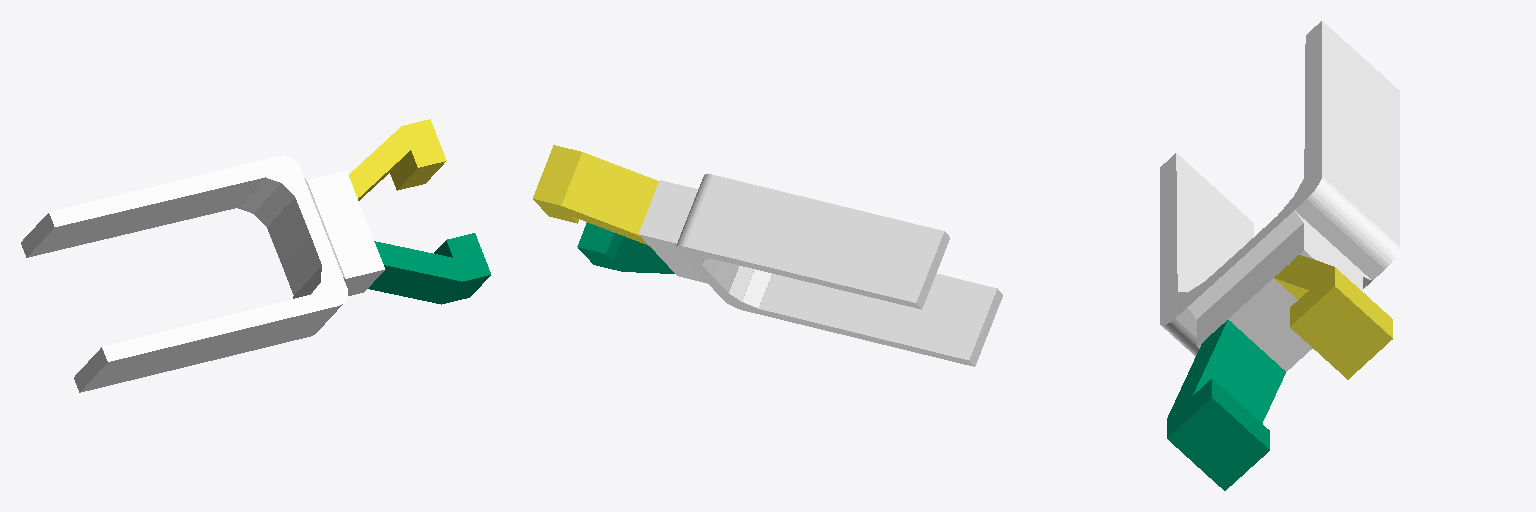
robot.urdf — panda:
<?xml version="1.0" ?>

<!-- =================================================================================== -->
<!-- |    This document was autogenerated by xacro from panda_arm.urdf.xacro           | -->
<!-- |    EDITING THIS FILE BY HAND IS NOT RECOMMENDED                                 | -->
<!-- =================================================================================== -->
<robot name="panda" xmlns:xacro="http://www.ros.org/wiki/xacro">
  <link name="panda_link0">
    <visual>
      <geometry>
        <mesh filename="meshes/visual/link0.dae"/>
      </geometry>
    </visual>
    <collision>
      <geometry>
        <mesh filename="meshes/collision/link0.stl"/>
      </geometry>
    </collision>
    <inertial>
        <mass value="3.06"/>
        <inertia ixx="0.3" ixy="0.0" ixz="0.0" iyy="0.3" iyz="0.0" izz="0.3"/>
      </inertial>
  </link>
  <link name="panda_link1">
    <visual>
      <geometry>
        <mesh filename="meshes/visual/link1.dae"/>
      </geometry>
    </visual>
    <collision>
      <geometry>
        <mesh filename="meshes/collision/link1.stl"/>
      </geometry>
    </collision>
    <inertial>
        <mass value="2.34"/>
        <inertia ixx="0.3" ixy="0.0" ixz="0.0" iyy="0.3" iyz="0.0" izz="0.3"/>
      </inertial>
  </link>
  <joint name="panda_joint1" type="revolute">
    <safety_controller k_position="100.0" k_velocity="40.0" soft_lower_limit="-2.8973" soft_upper_limit="2.8973"/>
    <origin rpy="0 0 0" xyz="0 0 0.333"/>
    <parent link="panda_link0"/>
    <child link="panda_link1"/>
    <axis xyz="0 0 1"/>
    <dynamics damping="1.0" />
    <limit effort="87" lower="-2.8973" upper="2.8973" velocity="2.1750"/>
  </joint>
  <link name="panda_link2">
    <visual>
      <geometry>
        <mesh filename="meshes/visual/link2.dae"/>
      </geometry>
    </visual>
    <collision>
      <geometry>
        <mesh filename="meshes/collision/link2.stl"/>
      </geometry>
    </collision>
    <inertial>
        <mass value="2.36"/>
        <inertia ixx="0.3" ixy="0.0" ixz="0.0" iyy="0.3" iyz="0.0" izz="0.3"/>
      </inertial>
  </link>
  <joint name="panda_joint2" type="revolute">
    <safety_controller k_position="100.0" k_velocity="40.0" soft_lower_limit="-1.7628" soft_upper_limit="1.7628"/>
    <origin rpy="-1.57079632679 0 0" xyz="0 0 0"/>
    <!-- <origin rpy="-1.57079632679 1.5 0" xyz="0 0 0"/> -->
    <parent link="panda_link1"/>
    <child link="panda_link2"/>
    <axis xyz="0 0 1"/>
    <dynamics damping="1.0" />
    <limit effort="87" lower="-1.7628" upper="1.7628" velocity="2.1750"/>
  </joint>
  <link name="panda_link3">
    <visual>
      <geometry>
        <mesh filename="meshes/visual/link3.dae"/>
      </geometry>
    </visual>
    <collision>
      <geometry>
        <mesh filename="meshes/collision/link3.stl"/>
      </geometry>
    </collision>
    <inertial>
        <mass value="2.38"/>
        <inertia ixx="0.3" ixy="0.0" ixz="0.0" iyy="0.3" iyz="0.0" izz="0.3"/>
      </inertial>

  </link>
  <joint name="panda_joint3" type="revolute">
    <safety_controller k_position="100.0" k_velocity="40.0" soft_lower_limit="-2.8973" soft_upper_limit="2.8973"/>
    <origin rpy="1.57079632679 0 0" xyz="0 -0.316 0"/>
    <parent link="panda_link2"/>
    <child link="panda_link3"/>
    <axis xyz="0 0 1"/>
    <dynamics damping="1.0" />
    <limit effort="87" lower="-2.8973" upper="2.8973" velocity="2.1750"/>
  </joint>
  <link name="panda_link4">
    <visual>
      <geometry>
        <mesh filename="meshes/visual/link4.dae"/>
      </geometry>
    </visual>
    <collision>
      <geometry>
        <mesh filename="meshes/collision/link4.stl"/>
      </geometry>
    </collision>
    <inertial>
      <mass value="2.43"/>
      <inertia ixx="0.3" ixy="0.0" ixz="0.0" iyy="0.3" iyz="0.0" izz="0.3"/>
      </inertial>
  </link>
  <joint name="panda_joint4" type="revolute">
    <safety_controller k_position="100.0" k_velocity="40.0" soft_lower_limit="-3.0718" soft_upper_limit="-0.0698"/>
    <origin rpy="1.57079632679 0 0" xyz="0.0825 0 0"/>
    <parent link="panda_link3"/>
    <child link="panda_link4"/>
    <axis xyz="0 0 1"/>
    <dynamics damping="1.0" />
    <limit effort="87" lower="-3.0718" upper="-0.0698" velocity="2.1750"/>
  </joint>
  <link name="panda_link5">
    <visual>
      <geometry>
        <mesh filename="meshes/visual/link5.dae"/>
      </geometry>
    </visual>
    <collision>
      <geometry>
        <mesh filename="meshes/collision/link5.stl"/>
      </geometry>
    </collision>
    <inertial>
        <mass value="3.5"/>
        <inertia ixx="0.3" ixy="0.0" ixz="0.0" iyy="0.3" iyz="0.0" izz="0.3"/>
      </inertial>
  </link>

  <joint name="panda_joint5" type="revolute">
    <safety_controller k_position="100.0" k_velocity="40.0" soft_lower_limit="-2.8973" soft_upper_limit="2.8973"/>
    <origin rpy="-1.57079632679 0 0" xyz="-0.0825 0.384 0"/>
    <parent link="panda_link4"/>
    <child link="panda_link5"/>
    <axis xyz="0 0 1"/>
    <dynamics damping="1.0" />
    <limit effort="12" lower="-2.8973" upper="2.8973" velocity="2.6100"/>
  </joint>
  <link name="panda_link6">
    <visual>
      <geometry>
        <mesh filename="meshes/visual/link6.dae"/>
      </geometry>
    </visual>
    <collision>
      <geometry>
        <mesh filename="meshes/collision/link6.stl"/>
      </geometry>
    </collision>
     <inertial>
        <mass value="1.47"/>
        <inertia ixx="0.3" ixy="0.0" ixz="0.0" iyy="0.3" iyz="0.0" izz="0.3"/>
      </inertial>
  </link>
  <joint name="panda_joint6" type="revolute">
    <safety_controller k_position="100.0" k_velocity="40.0" soft_lower_limit="-0.0175" soft_upper_limit="3.7525"/>
    <origin rpy="1.57079632679 0 0" xyz="0 0 0"/>
    <parent link="panda_link5"/>
    <child link="panda_link6"/>
    <axis xyz="0 0 1"/>
    <dynamics damping="1.0" />
    <limit effort="12" lower="-0.0175" upper="3.7525" velocity="2.6100"/>
  </joint>
  <link name="panda_link7">
    <visual>
      <geometry>
        <mesh filename="meshes/visual/link7.dae"/>
      </geometry>
    </visual>
    <collision>
      <geometry>
        <mesh filename="meshes/collision/link7.stl"/>
      </geometry>
    </collision>
    <inertial>
        <mass value="0.45"/>
        <inertia ixx="0.3" ixy="0.0" ixz="0.0" iyy="0.3" iyz="0.0" izz="0.3"/>
      </inertial>
  </link>
  <joint name="panda_joint7" type="revolute">
    <safety_controller k_position="100.0" k_velocity="40.0" soft_lower_limit="-2.8973" soft_upper_limit="2.8973"/>
    <origin rpy="1.57079632679 0 0" xyz="0.088 0 0"/>
    <parent link="panda_link6"/>
    <child link="panda_link7"/>
    <axis xyz="0 0 1"/>
    <dynamics damping="1.0" />
    <limit effort="12" lower="-2.8973" upper="2.8973" velocity="2.6100"/>
  </joint>
  <link name="panda_link8">
    <inertial>
      <mass value="0.001"/>
      <inertia ixx="0.3" ixy="0.0" ixz="0.0" iyy="0.3" iyz="0.0" izz="0.3"/>
      </inertial>
  </link>
  <joint name="panda_joint8" type="fixed">
    <origin rpy="0 0 0" xyz="0 0 0.107"/>
    <parent link="panda_link7"/>
    <child link="panda_link8"/>
    <axis xyz="0 0 0"/>
    <dynamics damping="100" />
  </joint>
  <joint name="panda_hand_joint" type="fixed">
    <parent link="panda_link8"/>
    <child link="panda_hand"/>
    <origin rpy="0 0 -0.785" xyz="0 0 0"/>
  </joint>
  <!-- <joint name="panda_hand_joint" type="revolute">
    <parent link="panda_link8"/>
    <child link="panda_hand"/>
    <origin rpy="0 0 0" xyz="0 0 0"/>
    <axis xyz="0 0 1"/>
    <limit effort="12" lower="-0.78" upper="-0.78" velocity="0.01"/>
  </joint> -->
  <link name="panda_hand">
    <visual>
      <geometry>
        <mesh filename="meshes/visual/hand.dae"/>
      </geometry>
    </visual>
    <collision>
      <geometry>
        <mesh filename="meshes/collision/hand.stl"/>
      </geometry>
    </collision>
     <inertial>
        <mass value="0.68"/>
        <inertia ixx="0.1" ixy="0.0" ixz="0.0" iyy="0.1" iyz="0.0" izz="0.1"/>
      </inertial>
  </link>

  <link name="panda_leftfinger_upper">
    <visual>
      <origin rpy="0 0 0" xyz="0 0 0"/>
      <geometry>
        <mesh filename="meshes/collision/finger_upper_v2.stl"/>
      </geometry>
    </visual>
    <collision>
      <origin rpy="0 0 0" xyz="0 0 0"/>
      <geometry>
        <mesh filename="meshes/collision/finger_upper_v2.stl"/>
      </geometry>
    </collision>
    <inertial>
        <mass value="0.01"/>
        <inertia ixx="0.1" ixy="0.0" ixz="0.0" iyy="0.1" iyz="0.0" izz="0.1"/>
      </inertial>
  </link>
  <link name="panda_rightfinger_upper">
    <visual>
      <origin rpy="0 0 3.14" xyz="0 0 0"/>
      <geometry>
        <mesh filename="meshes/collision/finger_upper_v2.stl"/>
      </geometry>
    </visual>
    <collision>
      <origin rpy="0 0 3.14" xyz="0 0 0"/>
      <geometry>
        <mesh filename="meshes/collision/finger_upper_v2.stl"/>
      </geometry>
    </collision>
    <inertial>
        <mass value="0.01"/>
        <inertia ixx="0.1" ixy="0.0" ixz="0.0" iyy="0.1" iyz="0.0" izz="0.1"/>
      </inertial>
  </link>
  <joint name="panda_finger_joint1" type="prismatic">
    <parent link="panda_hand"/>
    <child link="panda_leftfinger_upper"/>
    <origin rpy="0 0 0" xyz="0 0 0.065"/>
    <axis xyz="0 1 0"/>
    <limit effort="20" lower="0" upper="0.04" velocity="10"/>
  </joint>
  <joint name="panda_finger_joint2" type="prismatic">
    <parent link="panda_hand"/>
    <child link="panda_rightfinger_upper"/>
    <origin rpy="0 0 0" xyz="0 0 0.065"/>
    <axis xyz="0 -1 0"/>
    <limit effort="20" lower="0" upper="0.04" velocity="10"/>
    <mimic joint="panda_finger_joint1"/>
  </joint>

  <link name="panda_leftfinger_lower">
    <visual>
      <origin rpy="0 0 0" xyz="0 0 0.029"/>
      <geometry>
        <!-- <box size="0.018 0.015 0.108"/> -->
        <mesh filename="meshes/collision/franka_finger_lower_wide_flat_decom.obj"/>
      </geometry>
      <material name="white">
				<color rgba="1. 1. 1. 1"/>
			</material>
    </visual>
    <collision>
      <origin rpy="0 0 0" xyz="0 0 0.029"/>
      <geometry>
        <!-- <box size="0.018 0.015 0.108"/> -->
        <mesh filename="meshes/collision/franka_finger_lower_wide_flat_decom.obj"/>
      </geometry>
    </collision>
    <inertial>
        <mass value="0.01"/>
        <inertia ixx="0.1" ixy="0.0" ixz="0.0" iyy="0.1" iyz="0.0" izz="0.1"/>
      </inertial>
		<!-- <contact>
			<stiffness value="3000.0"/>
			<damping value="100.0"/>
		</contact> -->
  </link>
  <link name="panda_rightfinger_lower">
    <visual>
      <origin rpy="0 0 3.14" xyz="0 0 0.029"/>
      <geometry>
        <!-- <box size="0.018 0.015 0.108"/> -->
        <mesh filename="meshes/collision/franka_finger_lower_wide_flat_decom.obj"/>
      </geometry>
      <material name="white">
				<color rgba="1. 1. 1. 1"/>
			</material>
    </visual>
    <collision>
      <origin rpy="0 0 3.14" xyz="0 0 0.029"/>
      <geometry>
        <mesh filename="meshes/collision/franka_finger_lower_wide_flat_decom.obj"/>
        <!-- <box size="0.018 0.015 0.108"/> -->
      </geometry>
    </collision>
    <inertial>
        <mass value="0.01"/>
        <inertia ixx="0.1" ixy="0.0" ixz="0.0" iyy="0.1" iyz="0.0" izz="0.1"/>
      </inertial>
		<!-- <contact>
			<stiffness value="3000.0"/>
			<damping value="100.0"/>
		</contact> -->
  </link>
  <joint name="panda_finger_lower_joint1" type="fixed">
    <parent link="panda_leftfinger_upper"/>
    <child link="panda_leftfinger_lower"/>
    <origin rpy="0 0 0" xyz="0 0 0"/>
  </joint>
  <joint name="panda_finger_lower_joint2" type="fixed">
    <parent link="panda_rightfinger_upper"/>
    <child link="panda_rightfinger_lower"/>
    <origin rpy="0 0 0" xyz="0 0 0"/>
    <mimic joint="panda_finger_lower_joint1"/>
  </joint>
</robot>

--- What the picture shows (computed from the rendered views, not written in the file) ---
The picture shows the robot from 3 angles, left to right: view 1: azimuth 30°, elevation 25°; view 2: azimuth 150°, elevation 25°; view 3: azimuth 270°, elevation 25°; orthographic projection.
Robot: panda — 14 links, 13 joints (7 revolute, 2 prismatic, 4 fixed); root link panda_link0; default pose: all joints at 0 but 1 set to mid-range because 0 is outside their limits (panda_joint4 = -1.57).
Visible links, largest first — view 1: panda_rightfinger_lower, panda_leftfinger_lower, panda_leftfinger_upper, panda_rightfinger_upper; view 2: panda_rightfinger_lower, panda_leftfinger_lower, panda_rightfinger_upper, panda_leftfinger_upper; view 3: panda_rightfinger_lower, panda_leftfinger_lower, panda_leftfinger_upper, panda_rightfinger_upper.
Link boxes in pixels (x1,y1,x2,y2): panda_rightfinger_lower: (21,155,365,261); panda_leftfinger_lower: (74,220,384,392); panda_leftfinger_upper: (368,233,490,304); panda_rightfinger_upper: (349,119,446,200); panda_rightfinger_lower: (639,174,949,309); panda_leftfinger_lower: (658,255,1002,366); panda_rightfinger_upper: (533,145,658,245); panda_leftfinger_upper: (577,222,674,273); panda_rightfinger_lower: (1241,21,1399,350); panda_leftfinger_lower: (1160,153,1308,371); panda_leftfinger_upper: (1167,320,1285,490); panda_rightfinger_upper: (1274,255,1392,379).
Size in the robot's own frame: 0.1341 by 0.0525 by 0.0525 metres.
4 mesh visuals loaded from 11 distinct referenced files (1 binary STL, 1 OBJ); not drawn: 9 (reference not matched to a file when rendering).